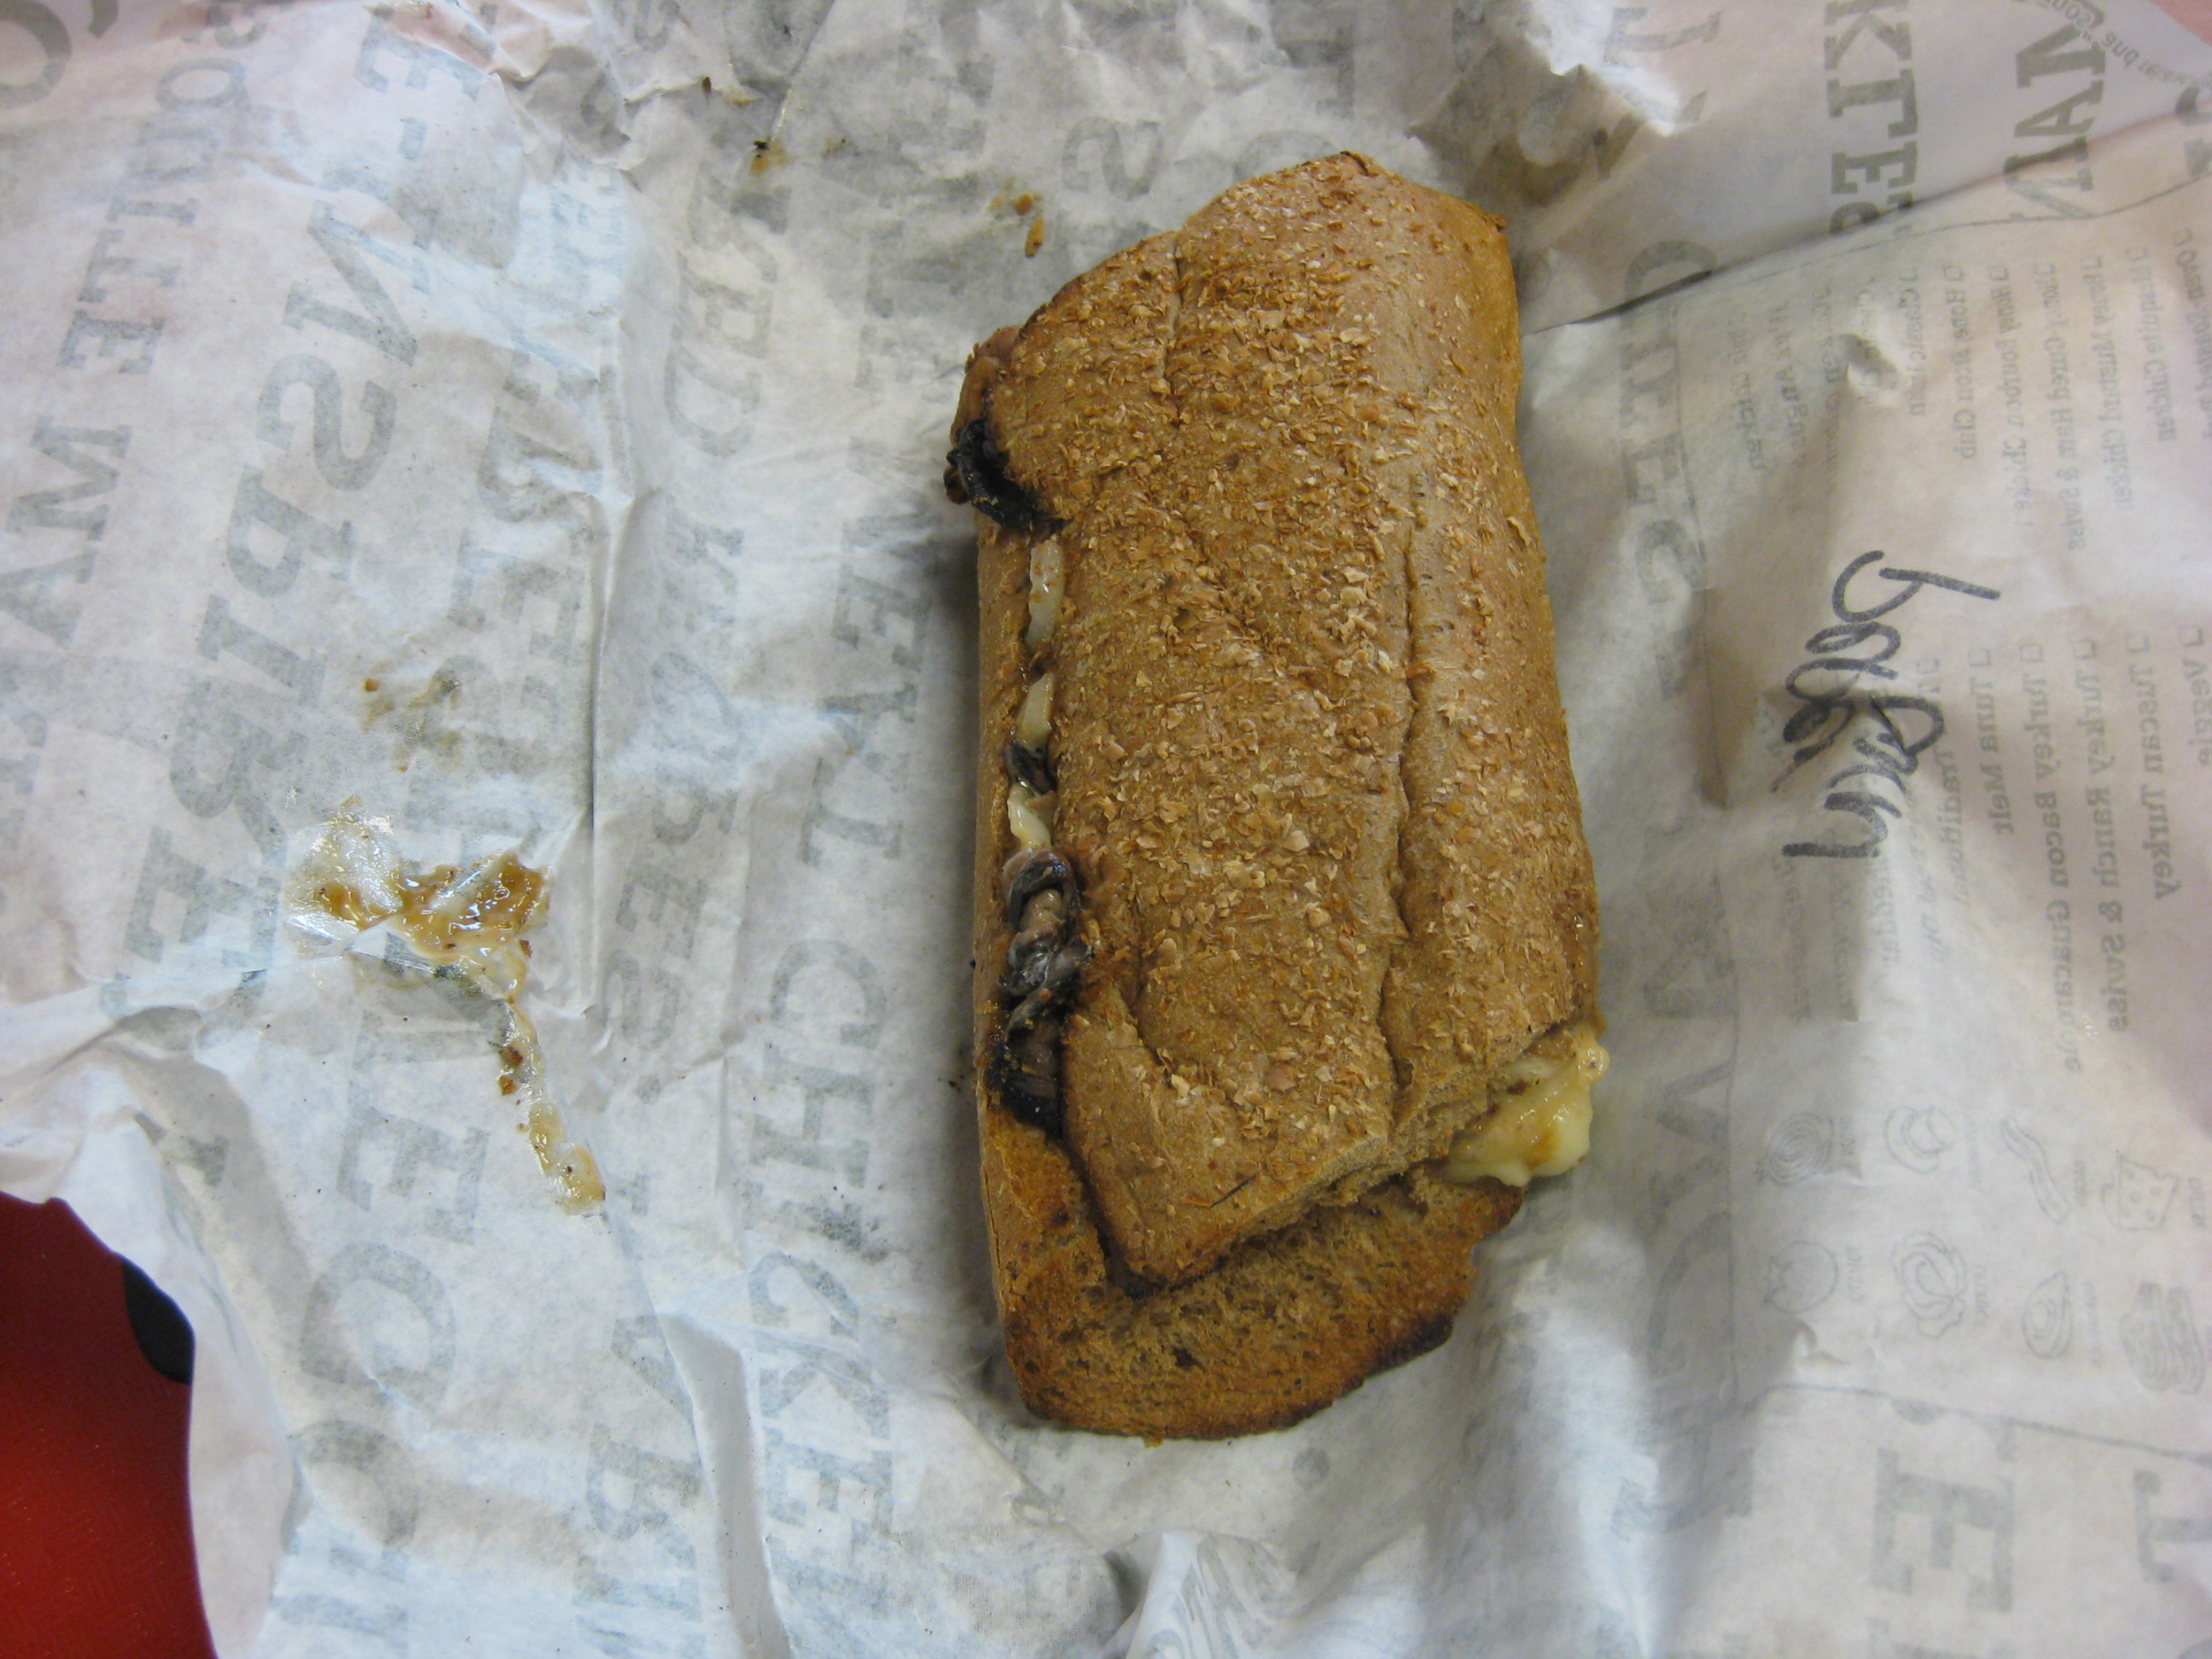sub: (899, 67, 1727, 1484)
